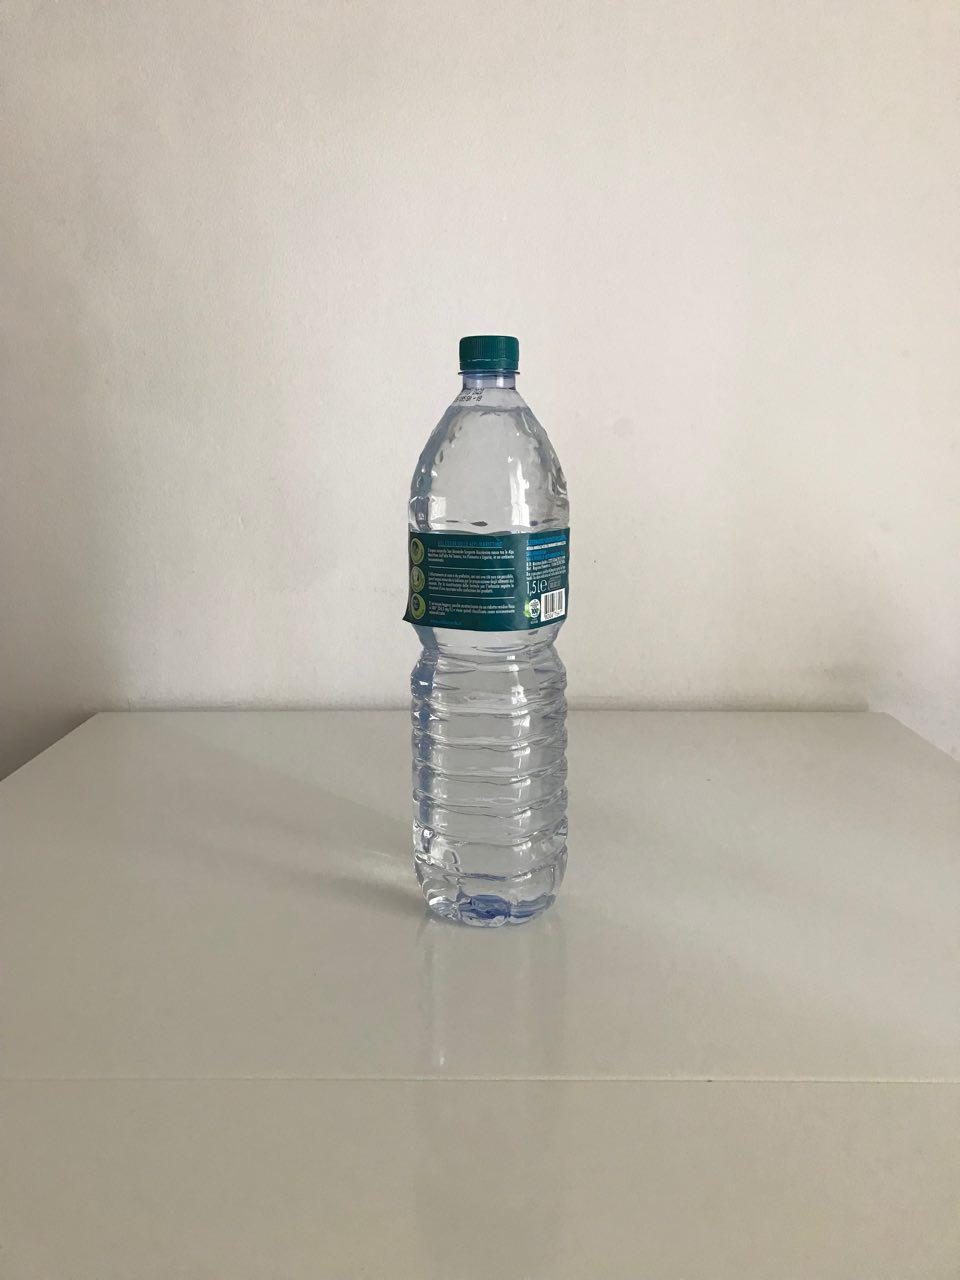san_bernardo: (404, 333, 573, 929)
